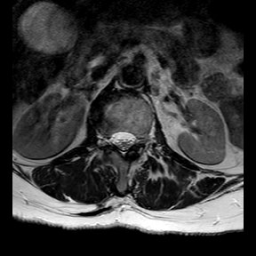CCS_normal: (118, 122, 127, 162)
LFS_stenosis: (136, 125, 145, 151)
LLS_normal: (127, 122, 136, 152)
RFS_normal: (101, 122, 110, 152)
RLS_normal: (110, 123, 118, 152)
